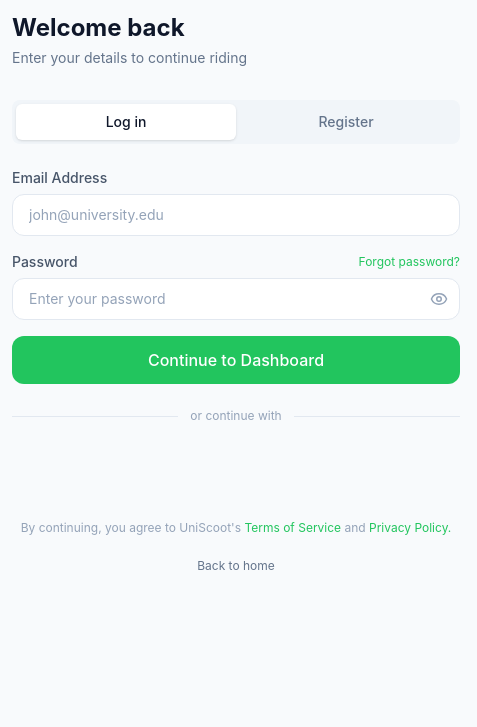
Test: LoginForm › switches to the register tab
The image size is (477, 727).
Click the tab "Register" at [346, 122], box [236,104,456,140]
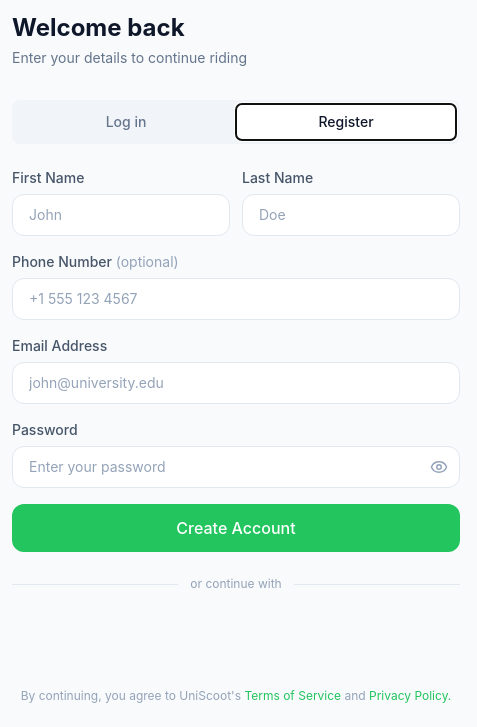
Expected: the field labelled "First Name" is shown, [12,194,230,236]
Expected: the field labelled "Last Name" is shown, [242,194,460,236]
